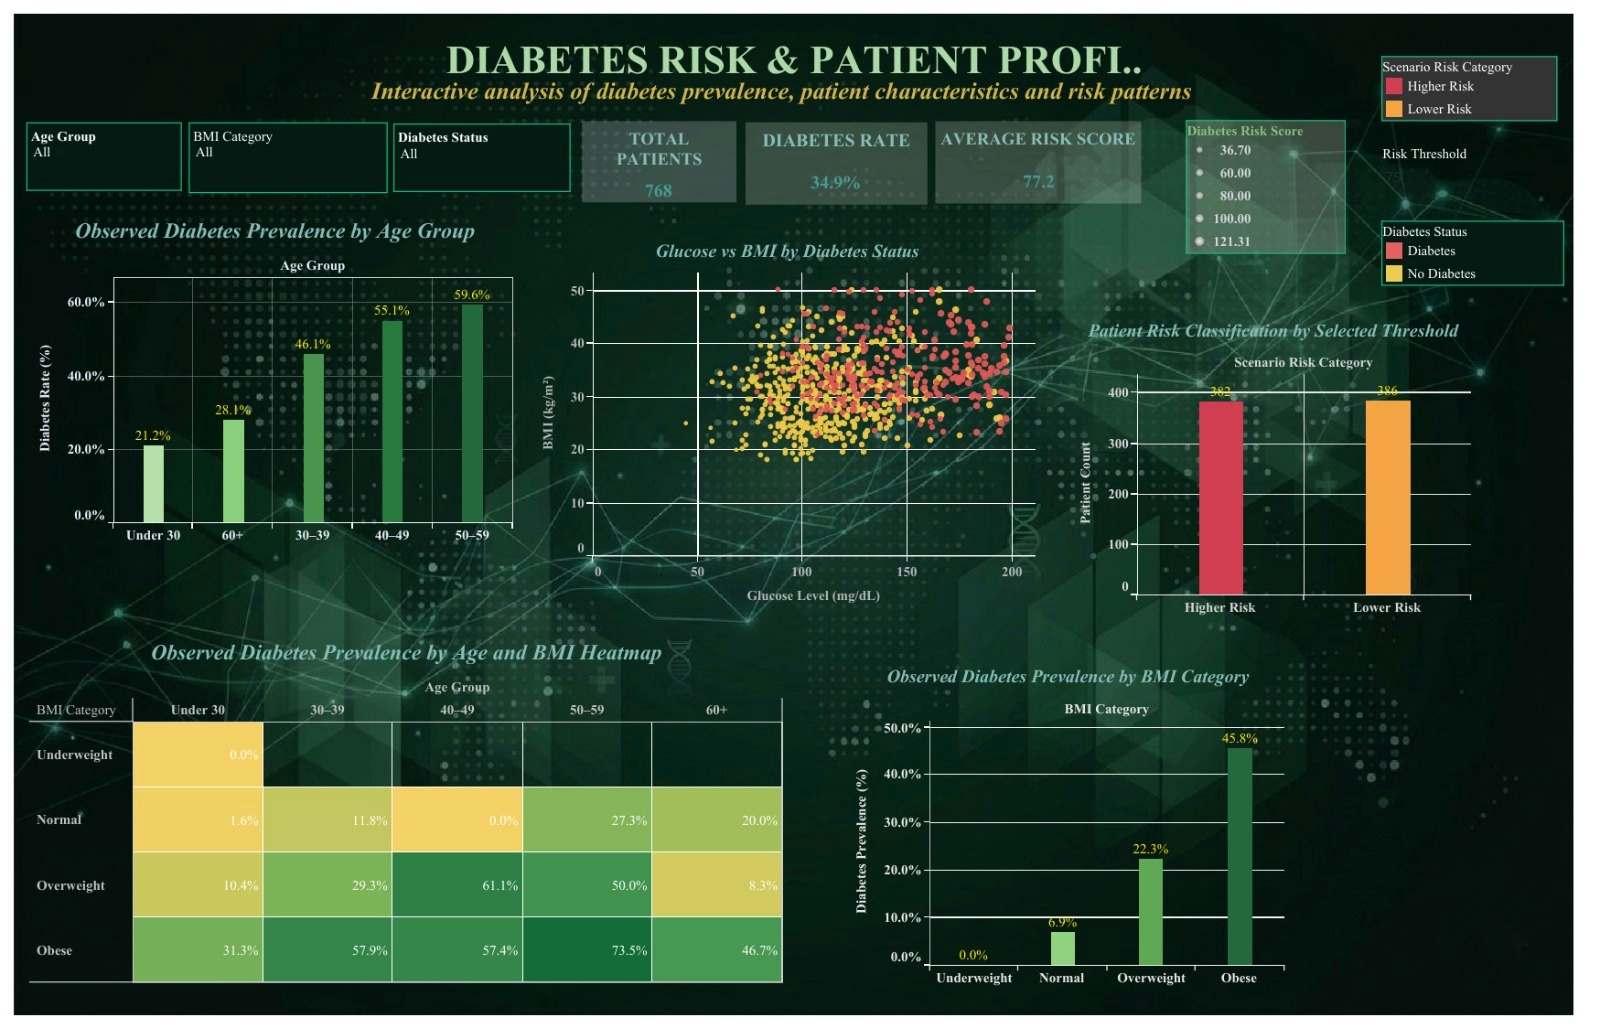

This screenshot's page, from the dashboard's own definition file:
{"tool":"tableau","page":{"name":"Diabetes Risk & Patient Profile Dashboard","canvas":[1400,900],"ordinal":0},"visuals":[{"type":"image","param":"Image/Gemini_Generated_Image_jxdsgqjxdsgqjxds.png","box":[8,8,1384,884]},{"type":"title","box":[377,20,635,64]},{"type":"legend","title":"Risk Scenario","param":"[federated.0bz124p1v5v7qu1f5dv2w04hpkym].[none:Calculation_0014258088583248:nk]","box":[1208,49,154,61]},{"type":"text","box":[254,50,859,58]},{"type":"legend","title":"Glucose vs BMI","param":"[federated.0bz124p1v5v7qu1f5dv2w04hpkym].[sum:DiabetesRiskScore:qk]","box":[1037,105,140,119]},{"type":"worksheet","title":"KPI Total Patients","mark":"Automatic","box":[509,106,135,71]},{"type":"worksheet","title":"KPI Average Risk","mark":"Automatic","box":[818,106,180,72]},{"type":"filter","title":"Diabetes Prevalence by Age Group","param":"[federated.0bz124p1v5v7qu1f5dv2w04hpkym].[none:Calculation_0001132583968770:nk]","box":[23,107,136,60]},{"type":"filter","title":"Diabetes Prevalence by BMI Category","param":"[federated.0bz124p1v5v7qu1f5dv2w04hpkym].[none:Calculation_0001132583784449:nk]","box":[165,107,174,62]},{"type":"worksheet","title":"KPI Diabetes Rate","mark":"Automatic","box":[652,107,159,72]},{"type":"filter","title":"Diabetes Prevalence by Age Group","param":"[federated.0bz124p1v5v7qu1f5dv2w04hpkym].[none:Calculation_0001132583583744:nk]","box":[344,108,155,60]},{"type":"parameter","param":"[Parameters].[Parameter 0014258086895695]","box":[1209,126,160,65]},{"type":"worksheet","title":"Diabetes Prevalence by Age Group","mark":"Automatic","rows":["Calculation_0001132585766917"],"cols":["Calculation_0001132583968770"],"box":[32,185,417,293]},{"type":"legend","title":"Glucose vs BMI","param":"[federated.0bz124p1v5v7qu1f5dv2w04hpkym].[none:Calculation_0001132583583744:nk]","box":[1208,193,160,66]},{"type":"worksheet","title":"Glucose vs BMI","mark":"Circle","rows":["BMI"],"cols":["Glucose"],"box":[472,204,433,331]},{"type":"worksheet","title":"Risk Scenario","mark":"Bar","rows":["Calculation_0001132610461696"],"cols":["Calculation_0014258088583248"],"box":[942,273,344,287]},{"type":"worksheet","title":"Diabetes Prevalence by Age and BMI","mark":"Square","rows":["Calculation_0001132583784449"],"cols":["Calculation_0001132583968770"],"box":[26,554,659,306]},{"type":"worksheet","title":"Diabetes Prevalence by BMI Category","mark":"Automatic","rows":["Calculation_0001132585766917"],"cols":["Calculation_0001132583784449"],"box":[746,576,377,298]}]}

Visuals, with their boxes in screenshot pixels (x1, y1, x2, y2), scaled from the page's 1400x900 canvas onto the 1600x1028 screenshot:
image: rect(9, 9, 1591, 1019)
title: rect(431, 23, 1157, 96)
"Risk Scenario" legend: rect(1381, 56, 1557, 126)
text: rect(290, 57, 1272, 123)
"Glucose vs BMI" legend: rect(1185, 120, 1345, 256)
"KPI Total Patients" worksheet: rect(582, 121, 736, 202)
"KPI Average Risk" worksheet: rect(935, 121, 1141, 203)
"Diabetes Prevalence by Age Group" filter: rect(26, 122, 182, 191)
"Diabetes Prevalence by BMI Category" filter: rect(189, 122, 387, 193)
"KPI Diabetes Rate" worksheet: rect(745, 122, 927, 204)
"Diabetes Prevalence by Age Group" filter: rect(393, 123, 570, 192)
parameter: rect(1382, 144, 1565, 218)
"Diabetes Prevalence by Age Group" worksheet: rect(37, 211, 513, 546)
"Glucose vs BMI" legend: rect(1381, 220, 1563, 296)
"Glucose vs BMI" worksheet (Circle marks): rect(539, 233, 1034, 611)
"Risk Scenario" worksheet (Bar marks): rect(1077, 312, 1470, 640)
"Diabetes Prevalence by Age and BMI" worksheet (Square marks): rect(30, 633, 783, 982)
"Diabetes Prevalence by BMI Category" worksheet: rect(853, 658, 1283, 998)
